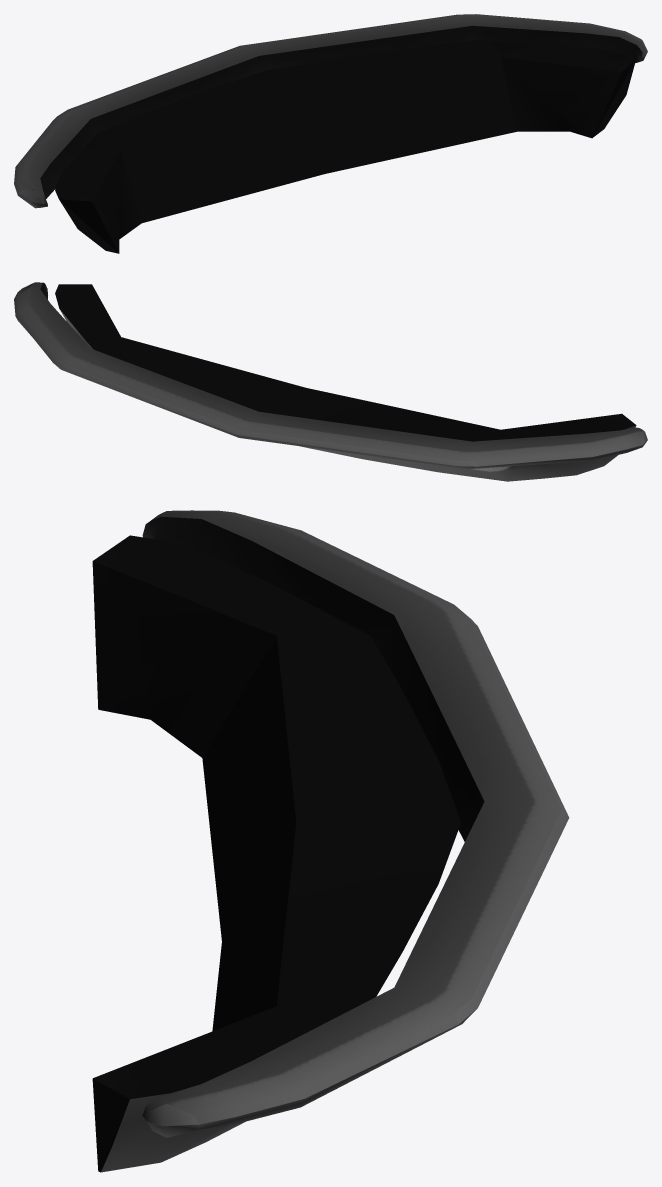
Rendered from Muscle_1_Bumper_Front_1.fbx.
The picture shows the model from 3 angles, top to bottom: view 1: azimuth 30°, elevation 25°; view 2: azimuth 150°, elevation 25°; view 3: azimuth 270°, elevation 25°; orthographic projection. The views are drawn at different scales.
Visible parts, largest first — view 1: Muscle_1_Bumper_Front_1; view 2: Muscle_1_Bumper_Front_1; view 3: Muscle_1_Bumper_Front_1.
Part boxes in pixels (left/top/right/bottom): Muscle_1_Bumper_Front_1: left=14, top=14, right=647, bottom=253; Muscle_1_Bumper_Front_1: left=14, top=282, right=647, bottom=481; Muscle_1_Bumper_Front_1: left=92, top=510, right=569, bottom=1172.
Size of the model in its own units: 154 by 16.59 by 50.9.
